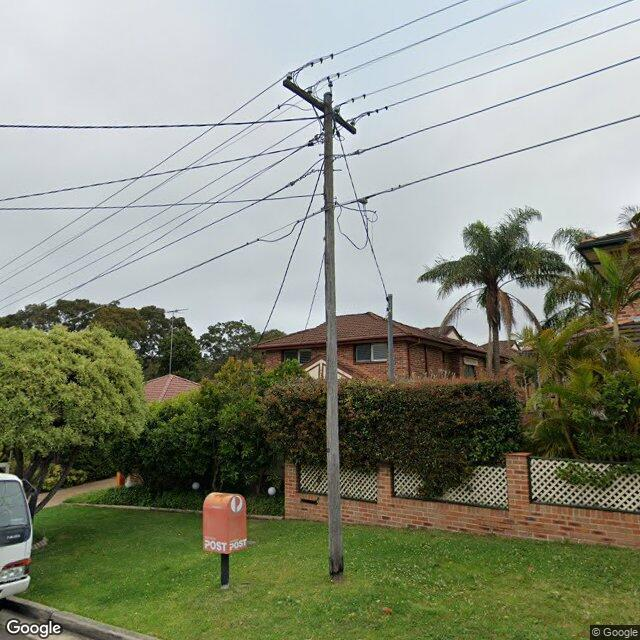crossarm: (283, 79, 359, 134)
steel-pole: (386, 294, 394, 381)
timber-pole: (323, 92, 344, 577)
